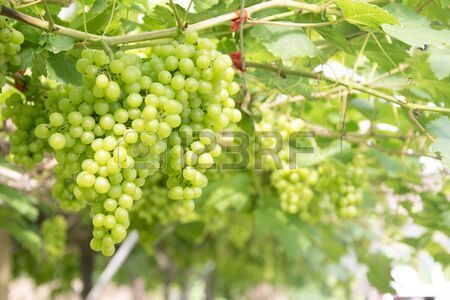grapes: (79, 52, 157, 261), (154, 41, 241, 215), (33, 85, 96, 216)
